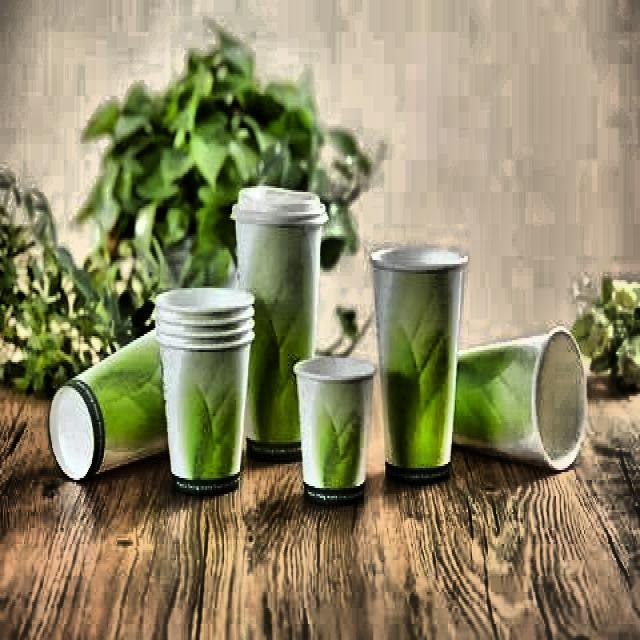Cup: (426, 330, 594, 491), (228, 180, 320, 471), (372, 237, 475, 486), (53, 306, 187, 482), (152, 289, 250, 498), (290, 343, 374, 503)
